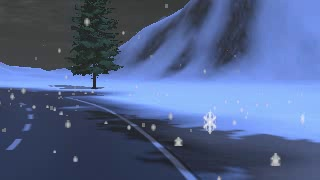Lane: (0, 86, 198, 179)
